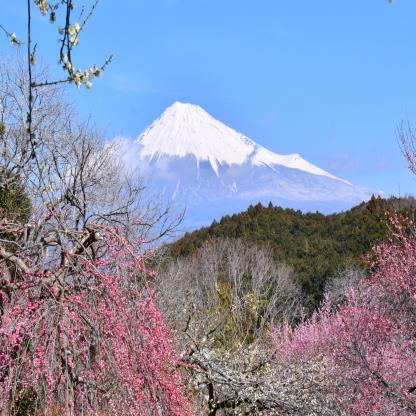Ume: (269, 108, 416, 416), (0, 216, 197, 416), (0, 0, 112, 229), (190, 294, 333, 416)
